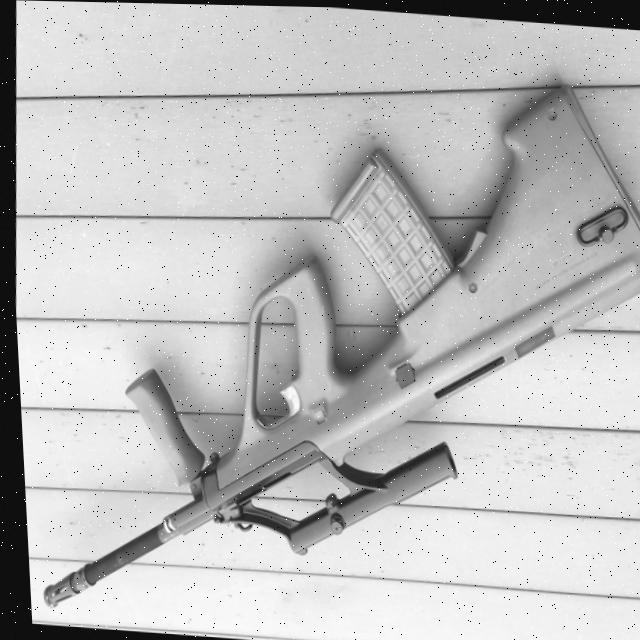firearm: (12, 43, 640, 640)
